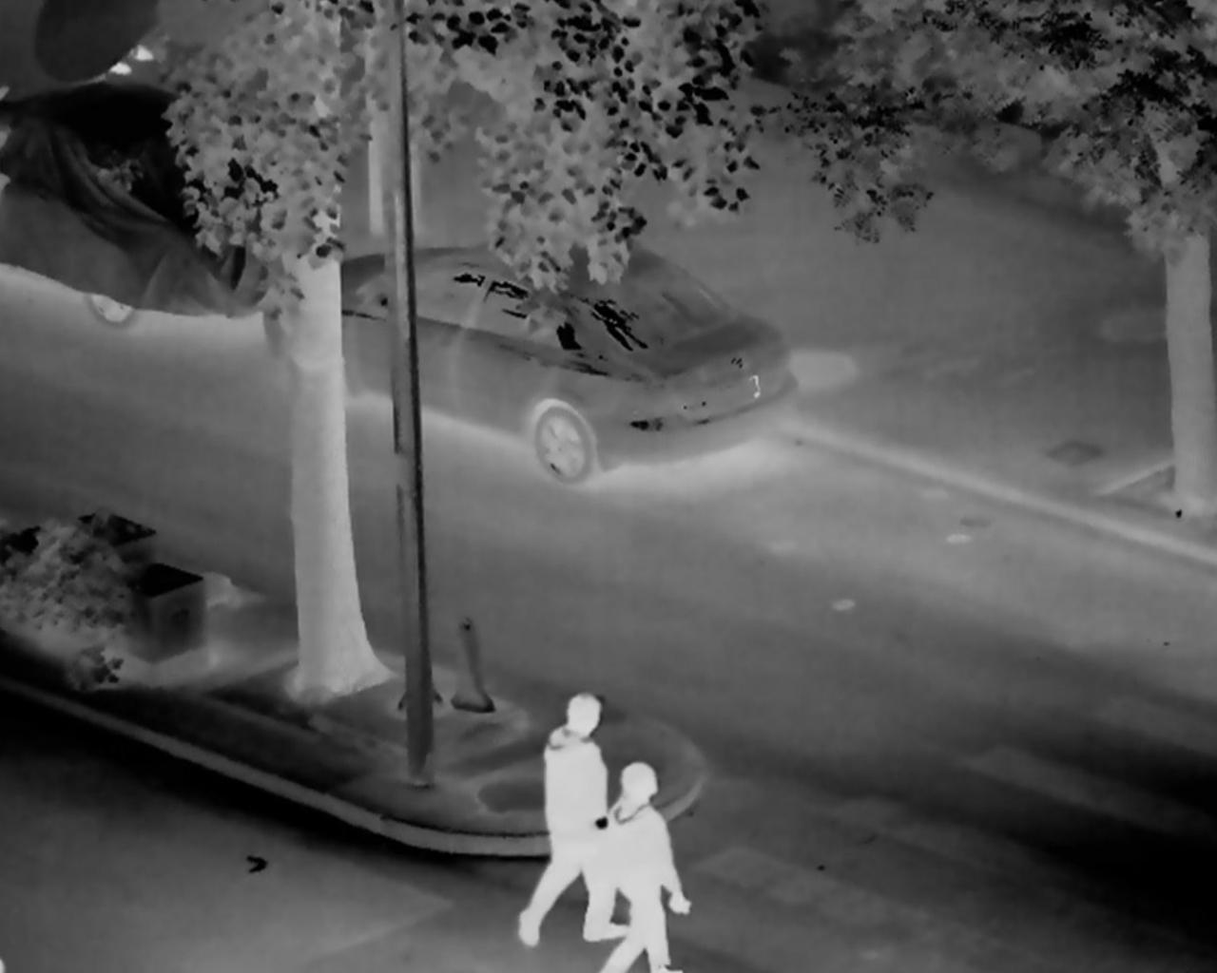person: (509, 678, 624, 953), (600, 754, 693, 973)
